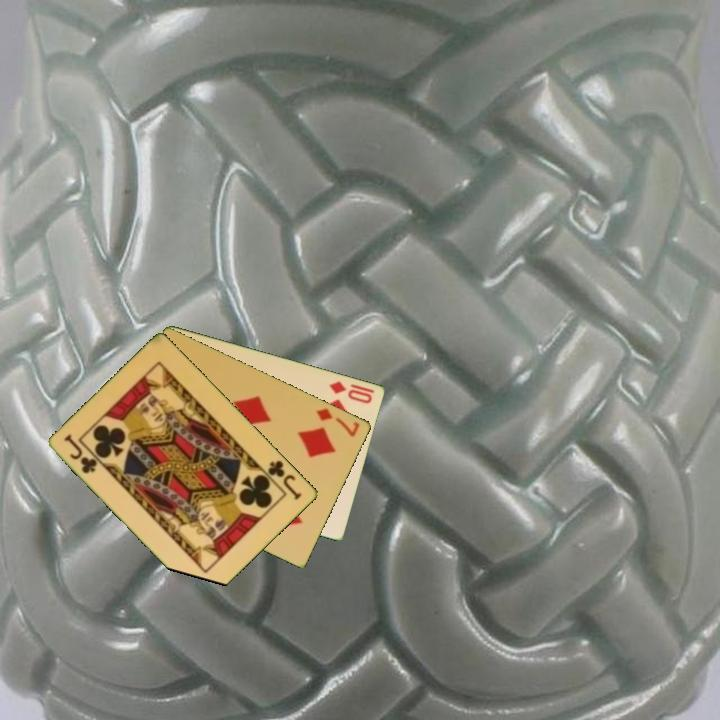10d: (326, 377, 376, 406)
7d: (313, 404, 363, 440)
Jc: (265, 456, 305, 503), (61, 431, 101, 477)
